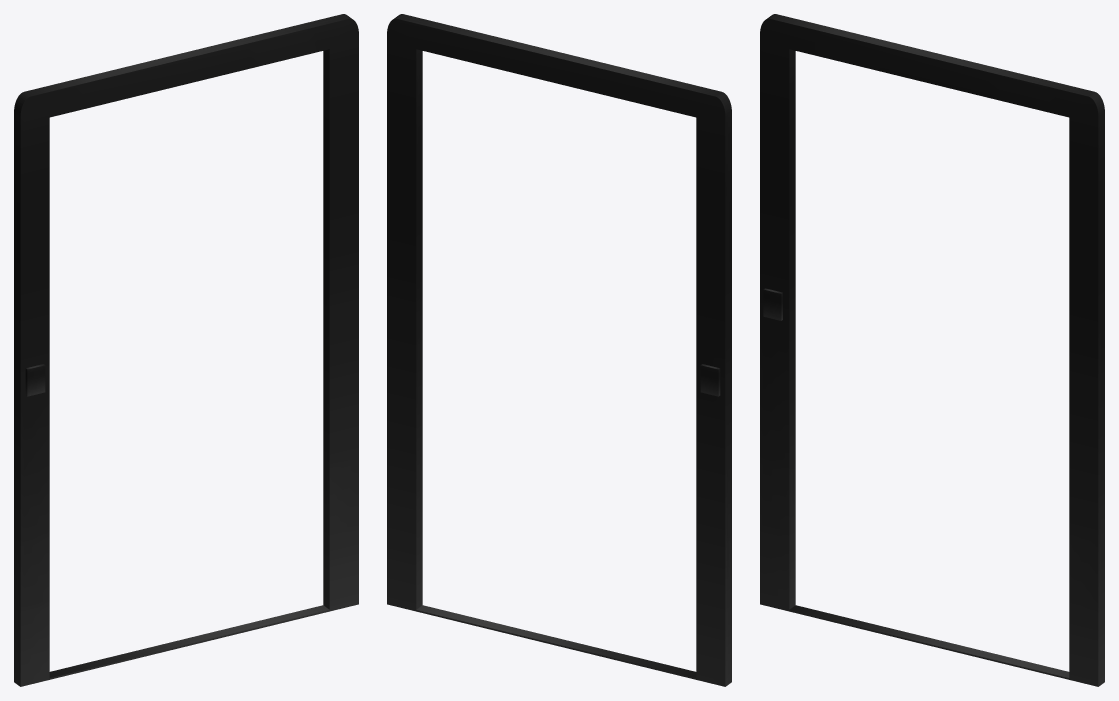
The model's file is Marco.fbx.
The picture shows the model from 3 angles, left to right: view 1: azimuth 30°, elevation 25°; view 2: azimuth 150°, elevation 25°; view 3: azimuth 330°, elevation 25°; orthographic projection.
Visible parts, largest first — view 1: Cube.003; view 2: Cube.003; view 3: Cube.003.
Boxes of the visible parts, bbox=[...] form: Cube.003: bbox=[14, 14, 358, 686]; Cube.003: bbox=[387, 14, 731, 686]; Cube.003: bbox=[760, 14, 1104, 686].
Size of the model in its own units: 900 by 1495 by 45.99.
Materials: 2 (2 with a texture image).
